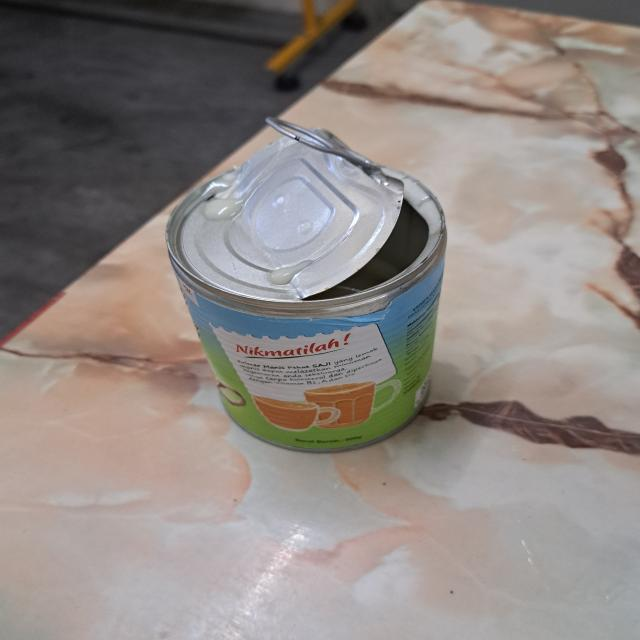can: (165, 115, 447, 453)
pop tab: (267, 116, 382, 178)
